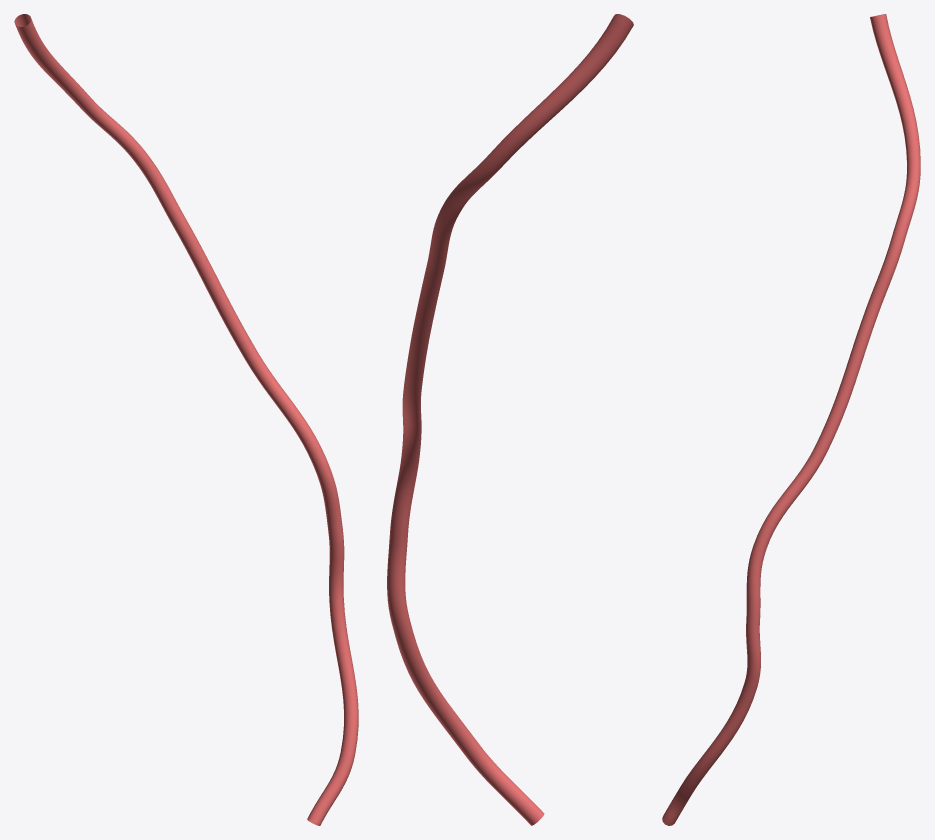
The model's file is Radial_collateral_artery.l_BezierCurve.149.glb.
3 views of the same model, side by side, from view 1: azimuth 30°, elevation 25°; view 2: azimuth 150°, elevation 25°; view 3: azimuth 270°, elevation 25° (orthographic). The views are drawn at different scales.
Visible parts, largest first — view 1: Radial_collateral_artery.l_BezierCurve.149; view 2: Radial_collateral_artery.l_BezierCurve.149; view 3: Radial_collateral_artery.l_BezierCurve.149.
Boxes of the visible parts, bbox=[...] form: Radial_collateral_artery.l_BezierCurve.149: bbox=[14, 14, 358, 825]; Radial_collateral_artery.l_BezierCurve.149: bbox=[387, 14, 633, 825]; Radial_collateral_artery.l_BezierCurve.149: bbox=[662, 14, 920, 825].
Size of the model in its own units: 0.0509 by 0.1437 by 0.0462.
